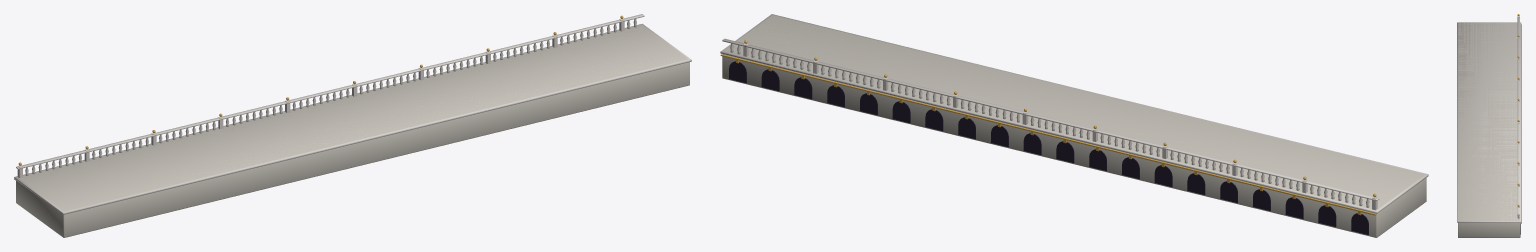
Rendered from court_terrace.glb.
3 renders of one model, left to right at view 1: azimuth 30°, elevation 25°; view 2: azimuth 150°, elevation 25°; view 3: azimuth 270°, elevation 25°, orthographic. The views are drawn at different scales.
Parts seen in each view (by area): view 1: court_terrace; view 2: court_terrace; view 3: court_terrace.
Boxes of the visible parts, x1,y1,x2,y2 form: court_terrace: (14,14,691,237); court_terrace: (720,14,1428,237); court_terrace: (1457,14,1521,237).
Bounding box in the file's own units: 30.1 × 1.87 × 4.14.
